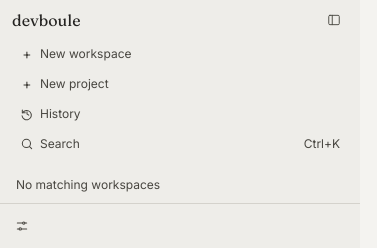
it: the sidebar's search row › shows the field in place of itself and takes the focus
The image size is (377, 248).
Click the button with class "sidebar-search-trigger".
click(60, 144)  # box [12, 130, 348, 158]
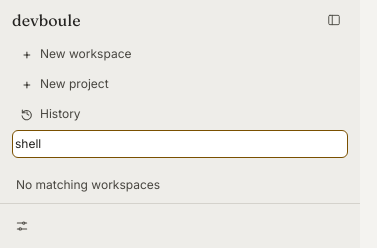
Result: the button with class "sidebar-search-trigger" is gone
Result: the field holds "shell" at [15, 135, 345, 153]
